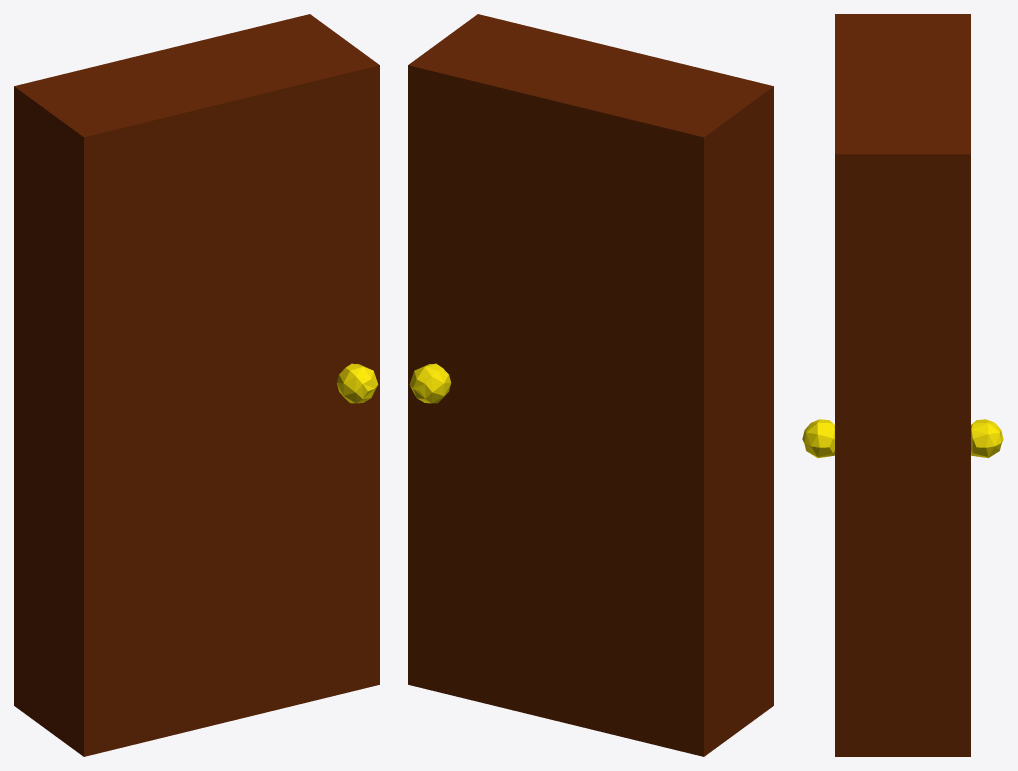
File: DoorLibrary.FBX
3 renders of one model, left to right at view 1: azimuth 30°, elevation 25°; view 2: azimuth 150°, elevation 25°; view 3: azimuth 270°, elevation 25°, orthographic. The views are drawn at different scales.
Visible parts, largest first — view 1: Box001; view 2: Box001; view 3: Box001.
Boxes of the visible parts, box(x1,y1,x2,y2) form: Box001: box(14, 14, 379, 756); Box001: box(408, 14, 773, 756); Box001: box(802, 14, 1003, 756).
Bounding box in the file's own units: 200 × 400 × 121.
